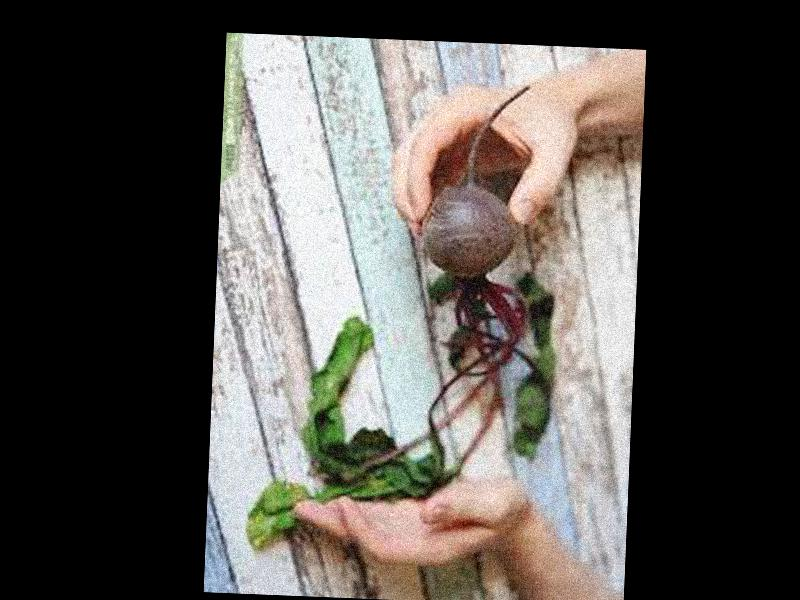Beet: (246, 74, 564, 560)
